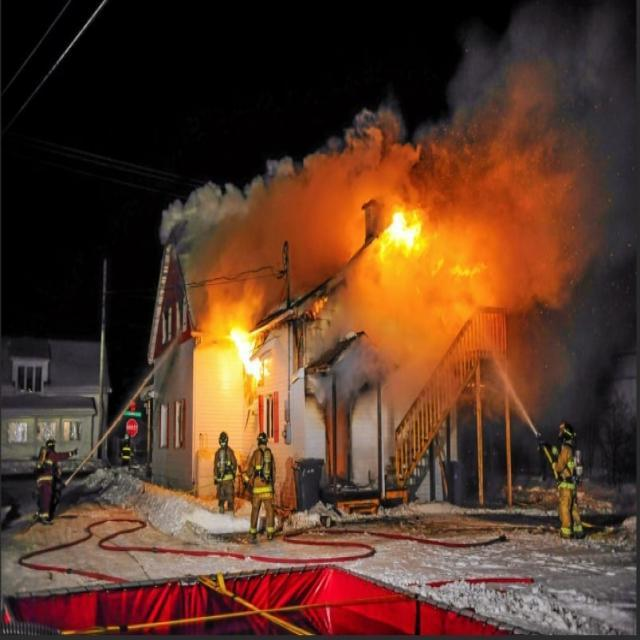Fire: (382, 212, 424, 254), (230, 326, 252, 368), (250, 357, 264, 385)
Smoke: (340, 350, 386, 380)
